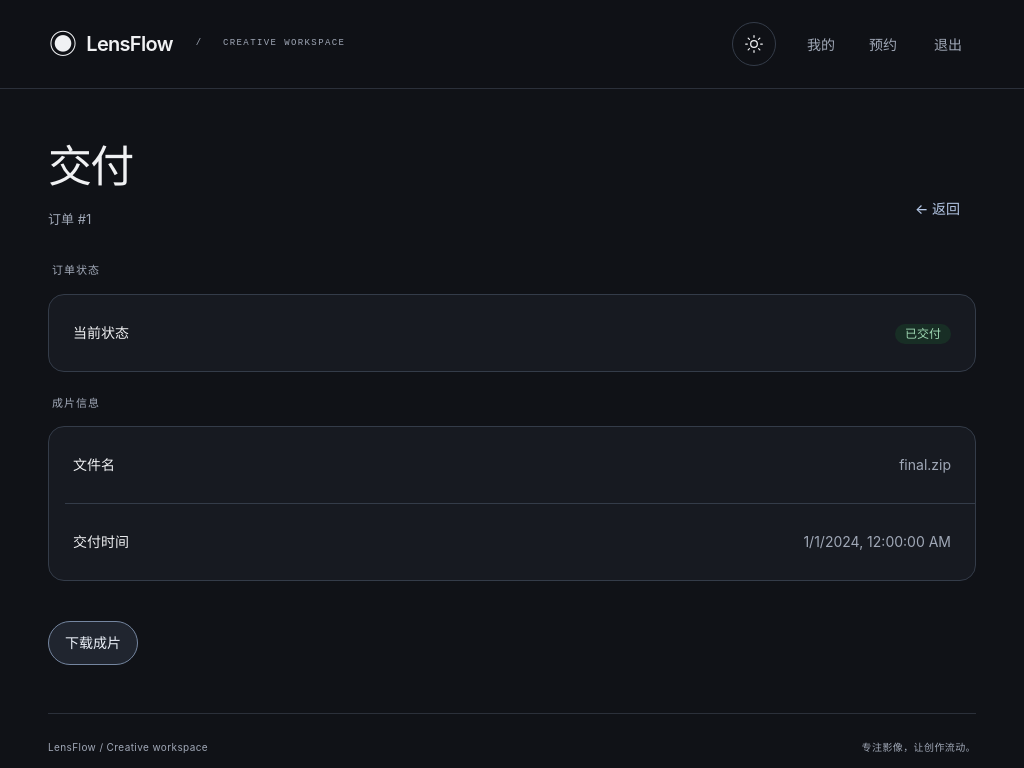
Scenario: DeliveryPage › authenticates download, preserves filename, and blocks duplicate clicks while pending
Click the button "下载成片" at coordinates (93, 643), box [48,621,138,665]
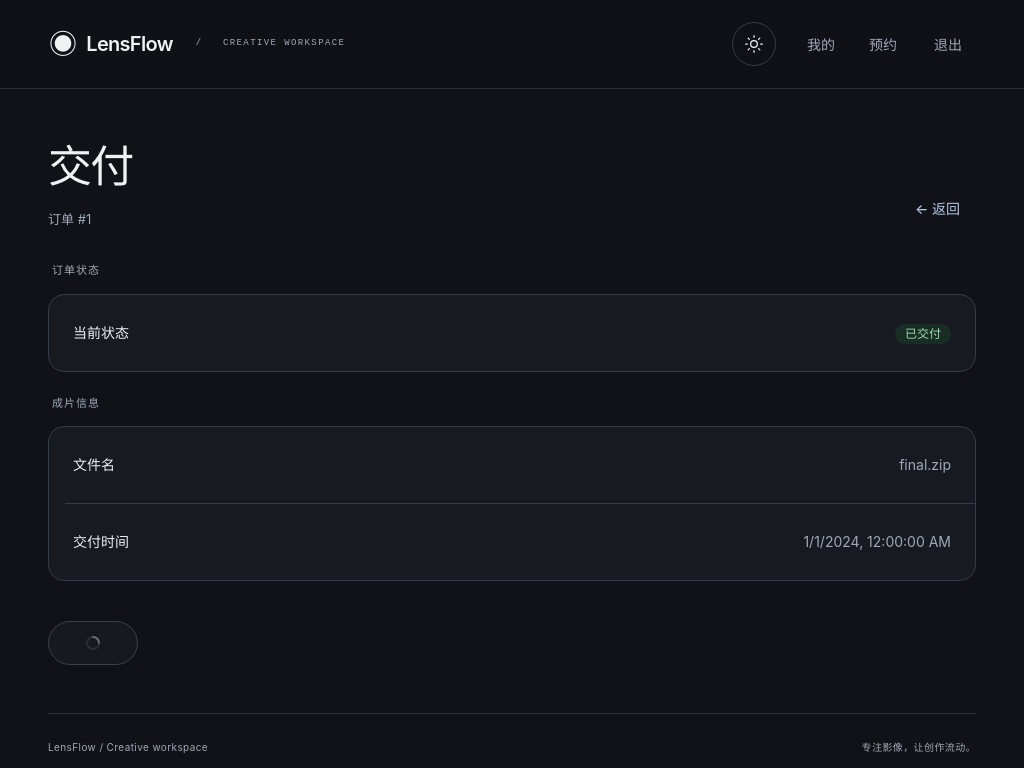
Result: the button named "下载成片" is disabled
Click the button named "下载成片" at coordinates (93, 643), box [48,621,138,665]
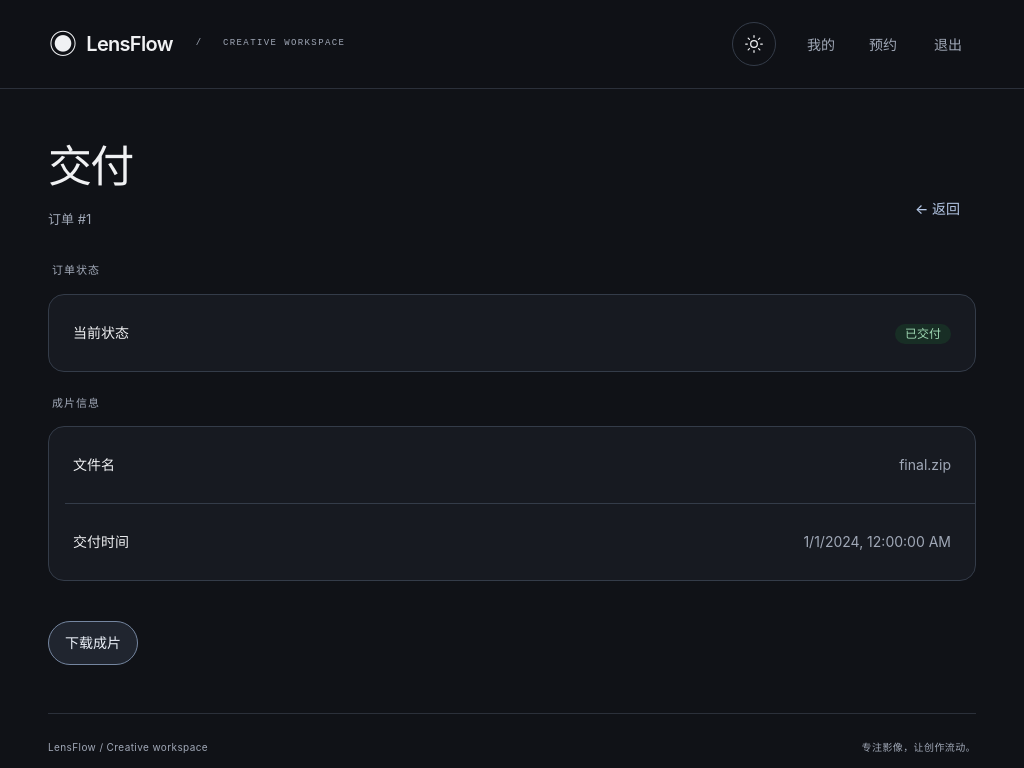
Result: the button "下载成片" is shown at [48,621,138,665]
